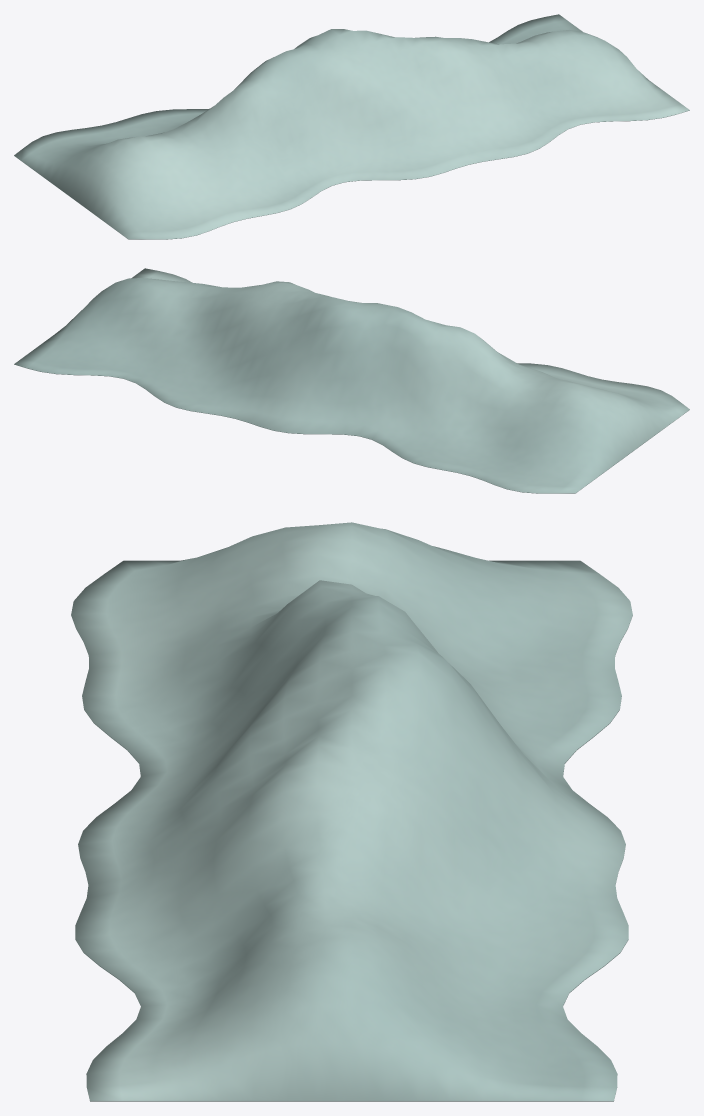
File: mountain_far_A.glb
3 renders of one model, top to bottom at view 1: azimuth 30°, elevation 25°; view 2: azimuth 150°, elevation 25°; view 3: azimuth 270°, elevation 25°, orthographic. The views are drawn at different scales.
Visible parts, largest first — view 1: mountain_far_A; view 2: mountain_far_A; view 3: mountain_far_A.
Boxes of the visible parts, x1,y1,x2,y2 form: mountain_far_A: (14, 14, 689, 239); mountain_far_A: (14, 268, 689, 493); mountain_far_A: (71, 522, 632, 1101).
Bounding box in the file's own units: 48 × 7.43 × 21.1.
Materials: 1 (1 with a texture image).
